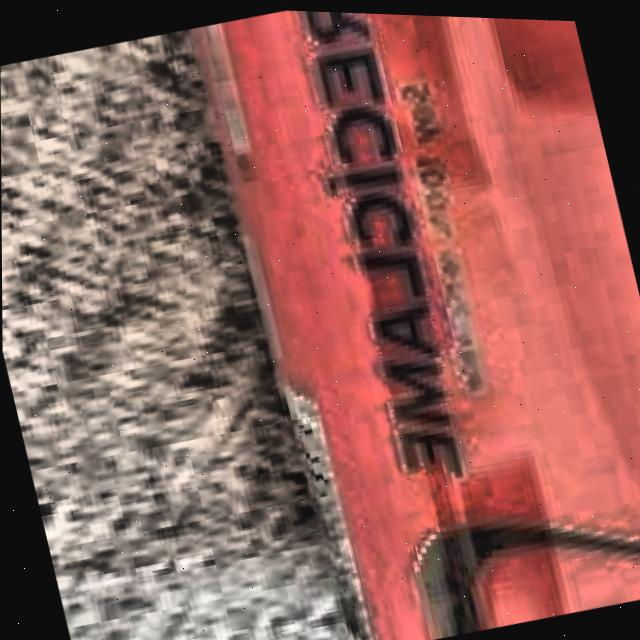metal: (188, 8, 640, 640)
